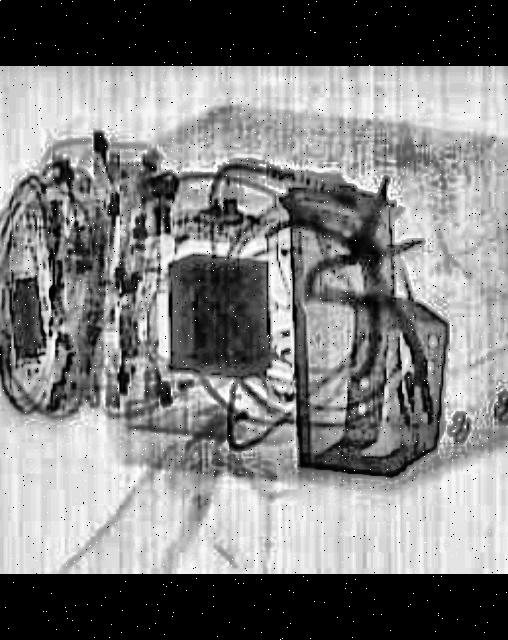Pliers: (229, 150, 495, 384)
